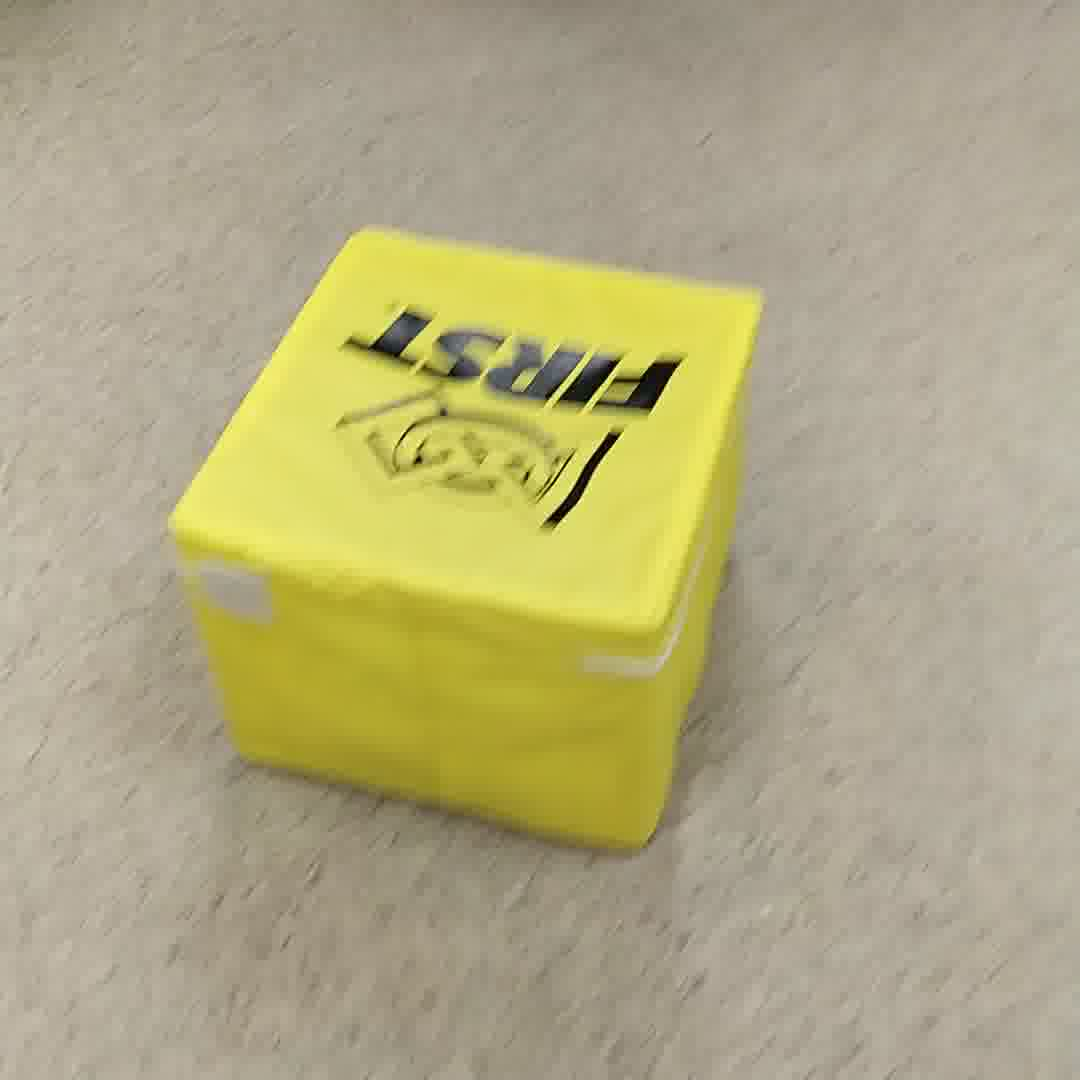box: (163, 204, 777, 864)
